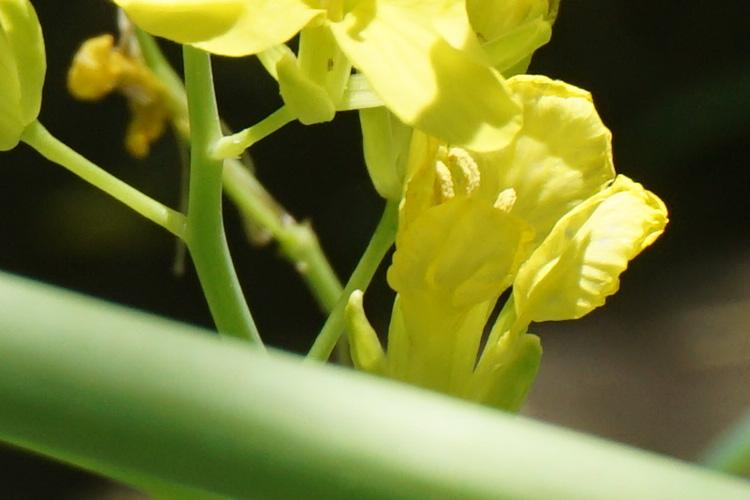yellow: (395, 97, 667, 382), (152, 4, 537, 119)
